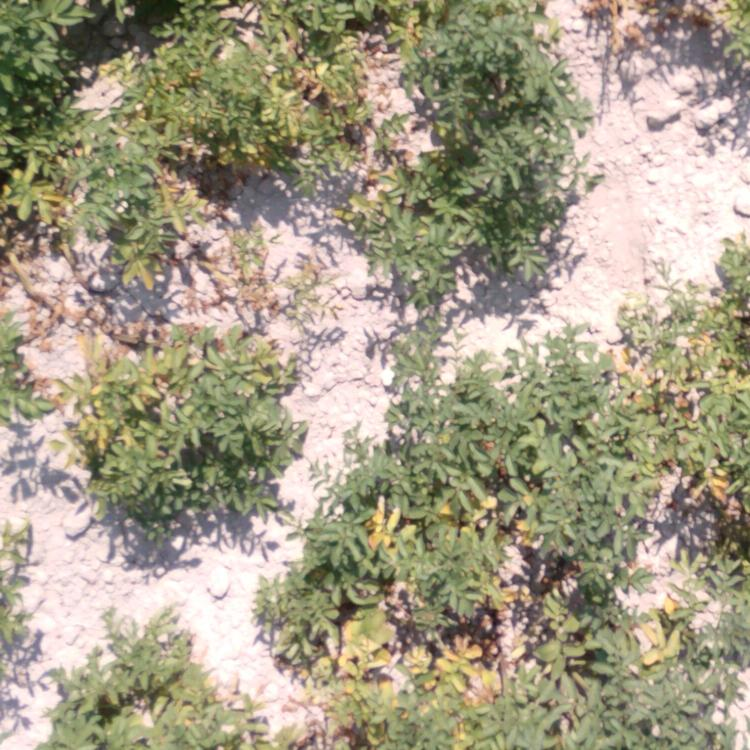healthy: (424, 15, 563, 250), (405, 359, 601, 461), (66, 651, 212, 741), (3, 3, 70, 90)
stressed: (311, 471, 557, 738), (617, 276, 746, 537), (79, 315, 270, 488), (5, 140, 251, 258), (159, 5, 351, 153), (548, 554, 712, 674)
